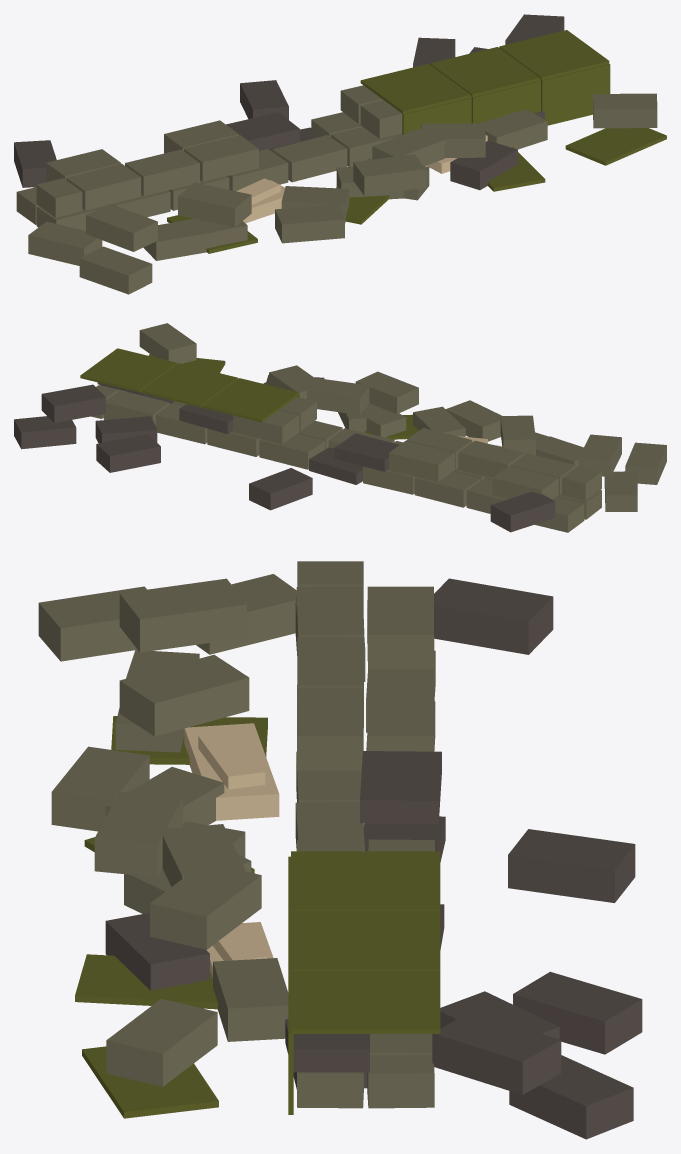
File: SM_MuroSacos_v4_Red_e2_MuyDanado_LOD0.fbx
The picture shows the model from 3 angles, top to bottom: view 1: azimuth 30°, elevation 25°; view 2: azimuth 150°, elevation 25°; view 3: azimuth 270°, elevation 25°; orthographic projection. The views are drawn at different scales.
Parts seen in each view (by area): view 1: SM_bloques.muro_sacos_estados_v18_LOD0; view 2: SM_bloques.muro_sacos_estados_v18_LOD0; view 3: SM_bloques.muro_sacos_estados_v18_LOD0.
Boxes of the visible parts, x1,y1,x2,y2 form: SM_bloques.muro_sacos_estados_v18_LOD0: (14, 14, 666, 294); SM_bloques.muro_sacos_estados_v18_LOD0: (14, 323, 666, 532); SM_bloques.muro_sacos_estados_v18_LOD0: (38, 561, 642, 1139).
Bounding box in the file's own units: 8.94 × 0.7939 × 4.29.
